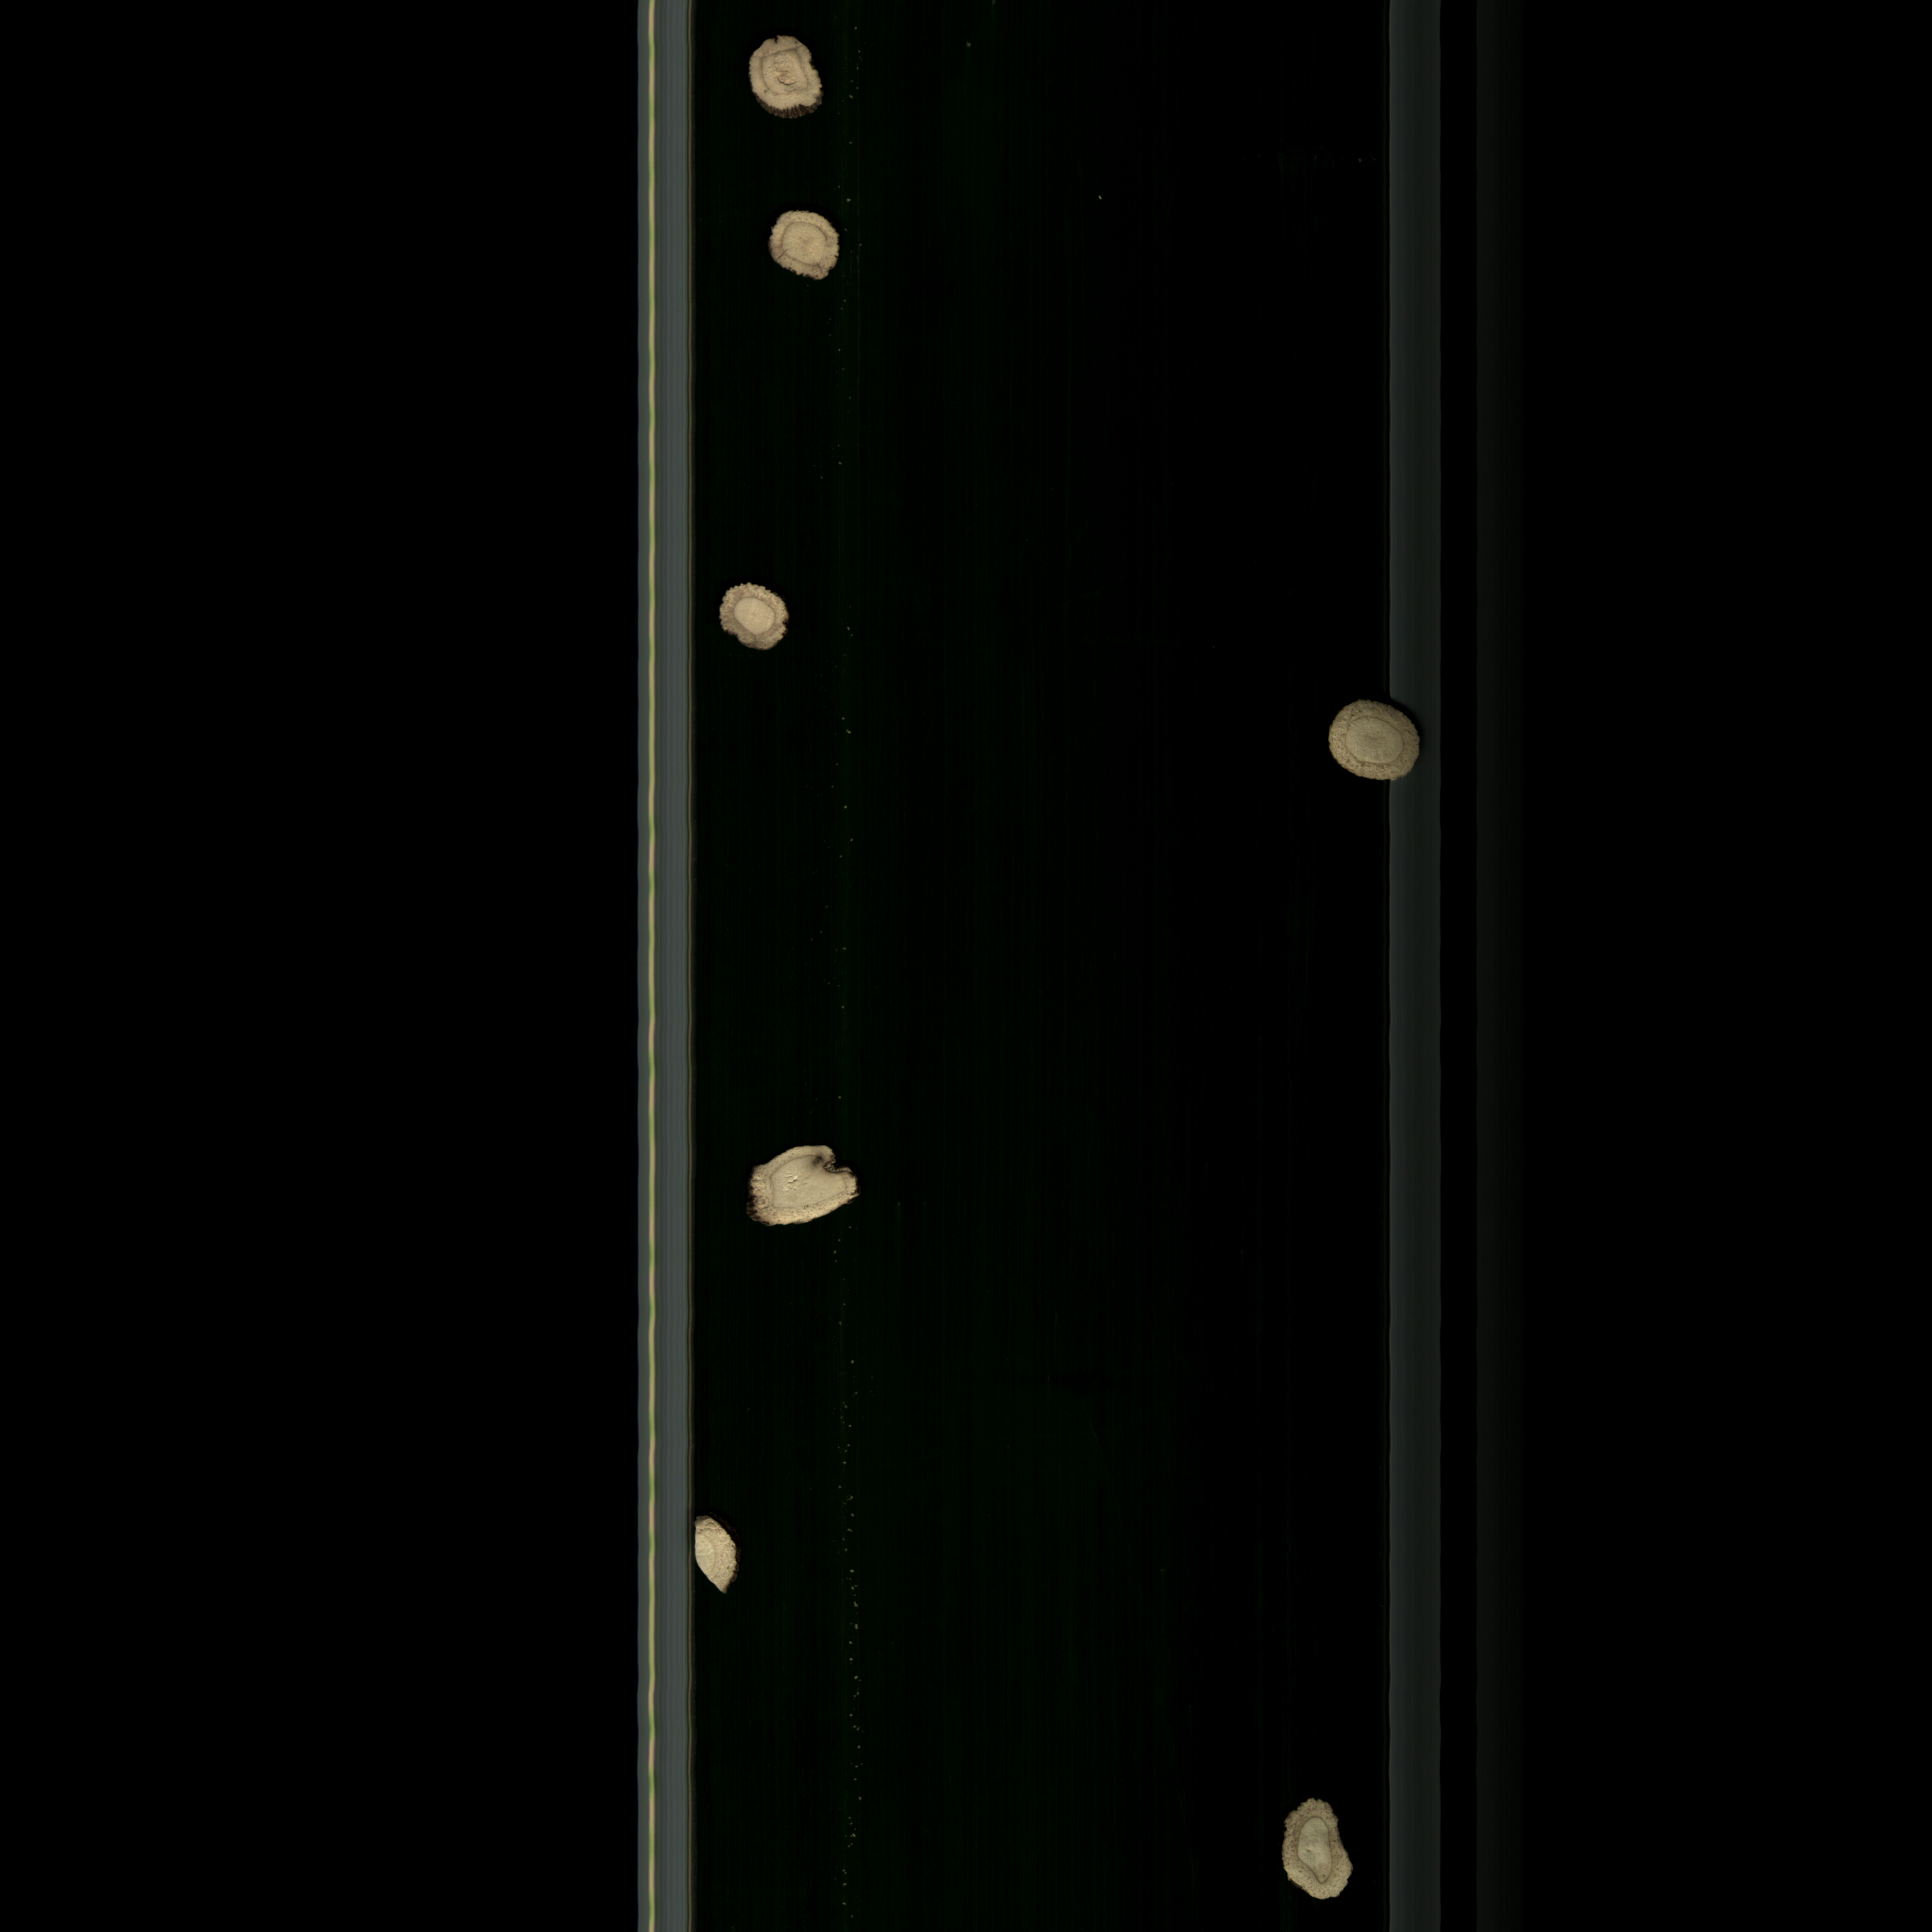debris: (741, 1134, 872, 1231), (688, 1518, 757, 1594)
distortion: (1270, 1794, 1364, 1909)
moldy: (740, 32, 832, 120), (766, 207, 847, 285)
